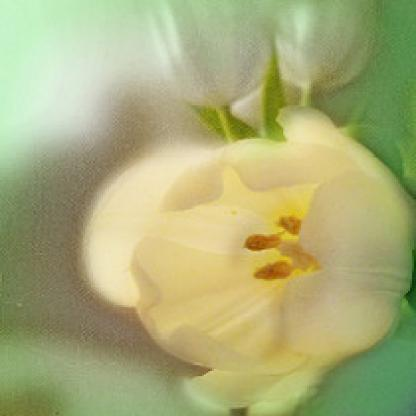TULIP: (78, 83, 411, 409)
